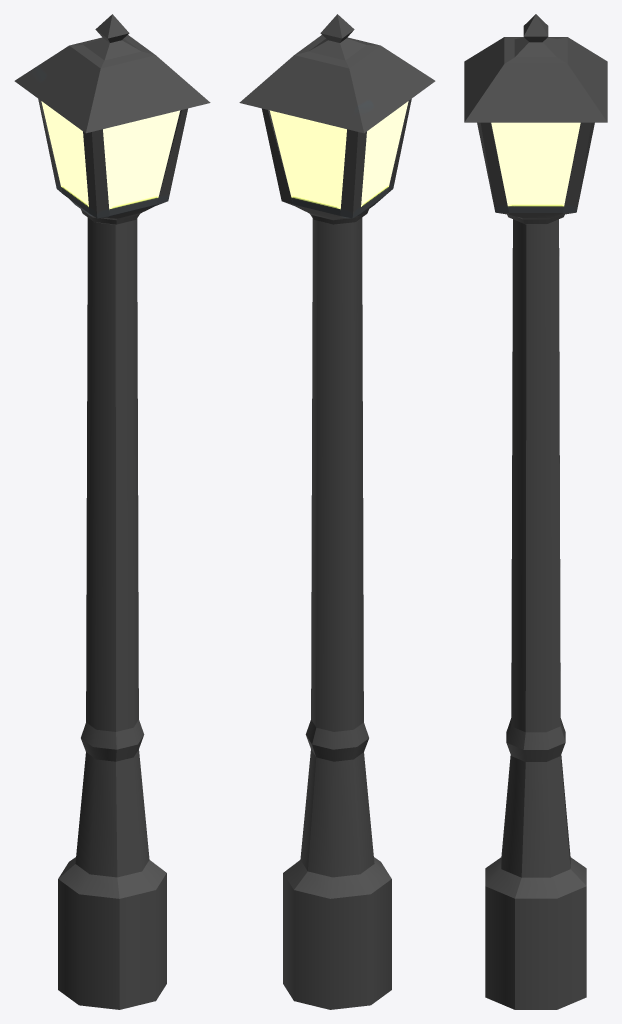
File: lamp1.glb
The picture shows the model from 3 angles, left to right: view 1: azimuth 30°, elevation 25°; view 2: azimuth 150°, elevation 25°; view 3: azimuth 270°, elevation 25°; orthographic projection.
Visible parts, largest first — view 1: pCylinder1; view 2: pCylinder1; view 3: pCylinder1.
Part boxes in pixels (x1,y1,x2,y2): pCylinder1: (14, 14, 210, 1009); pCylinder1: (239, 14, 435, 1009); pCylinder1: (464, 14, 607, 1009).
Bounding box in the file's own units: 0.0224 × 0.1669 × 0.0222.
Materials: 1 (1 with a texture image).
